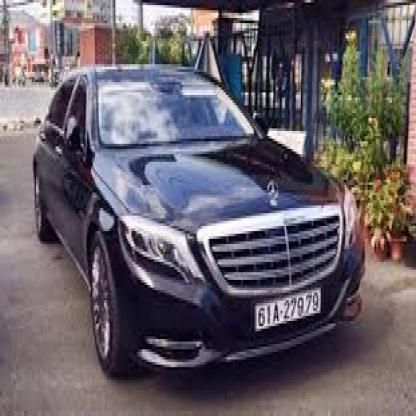biensoxe: (253, 288, 321, 335)
